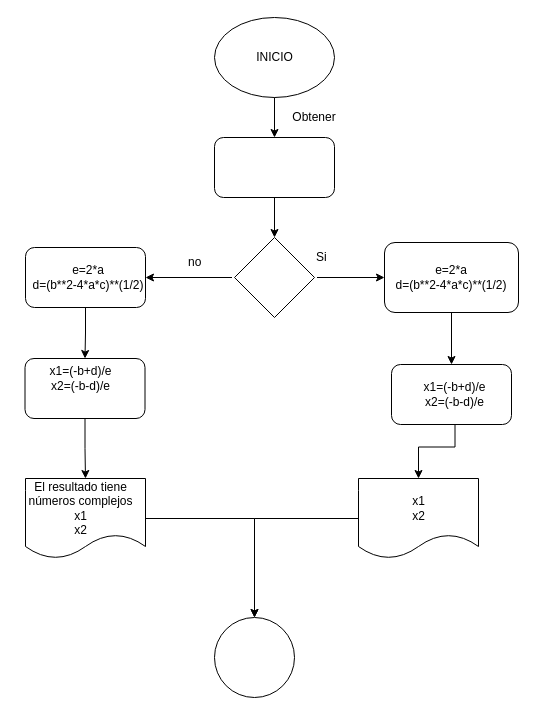
Some shapes in this 536 by 715 pixel diagram are drawn without their labels. The centre of each missing label's shape, as x and y in pixels:
"a,b,c,e,d x1,x2" belongs at (x=274, y=167).
"b**2>(4*a*c)" belongs at (x=274, y=277).
"FIN" belongs at (x=254, y=657).
